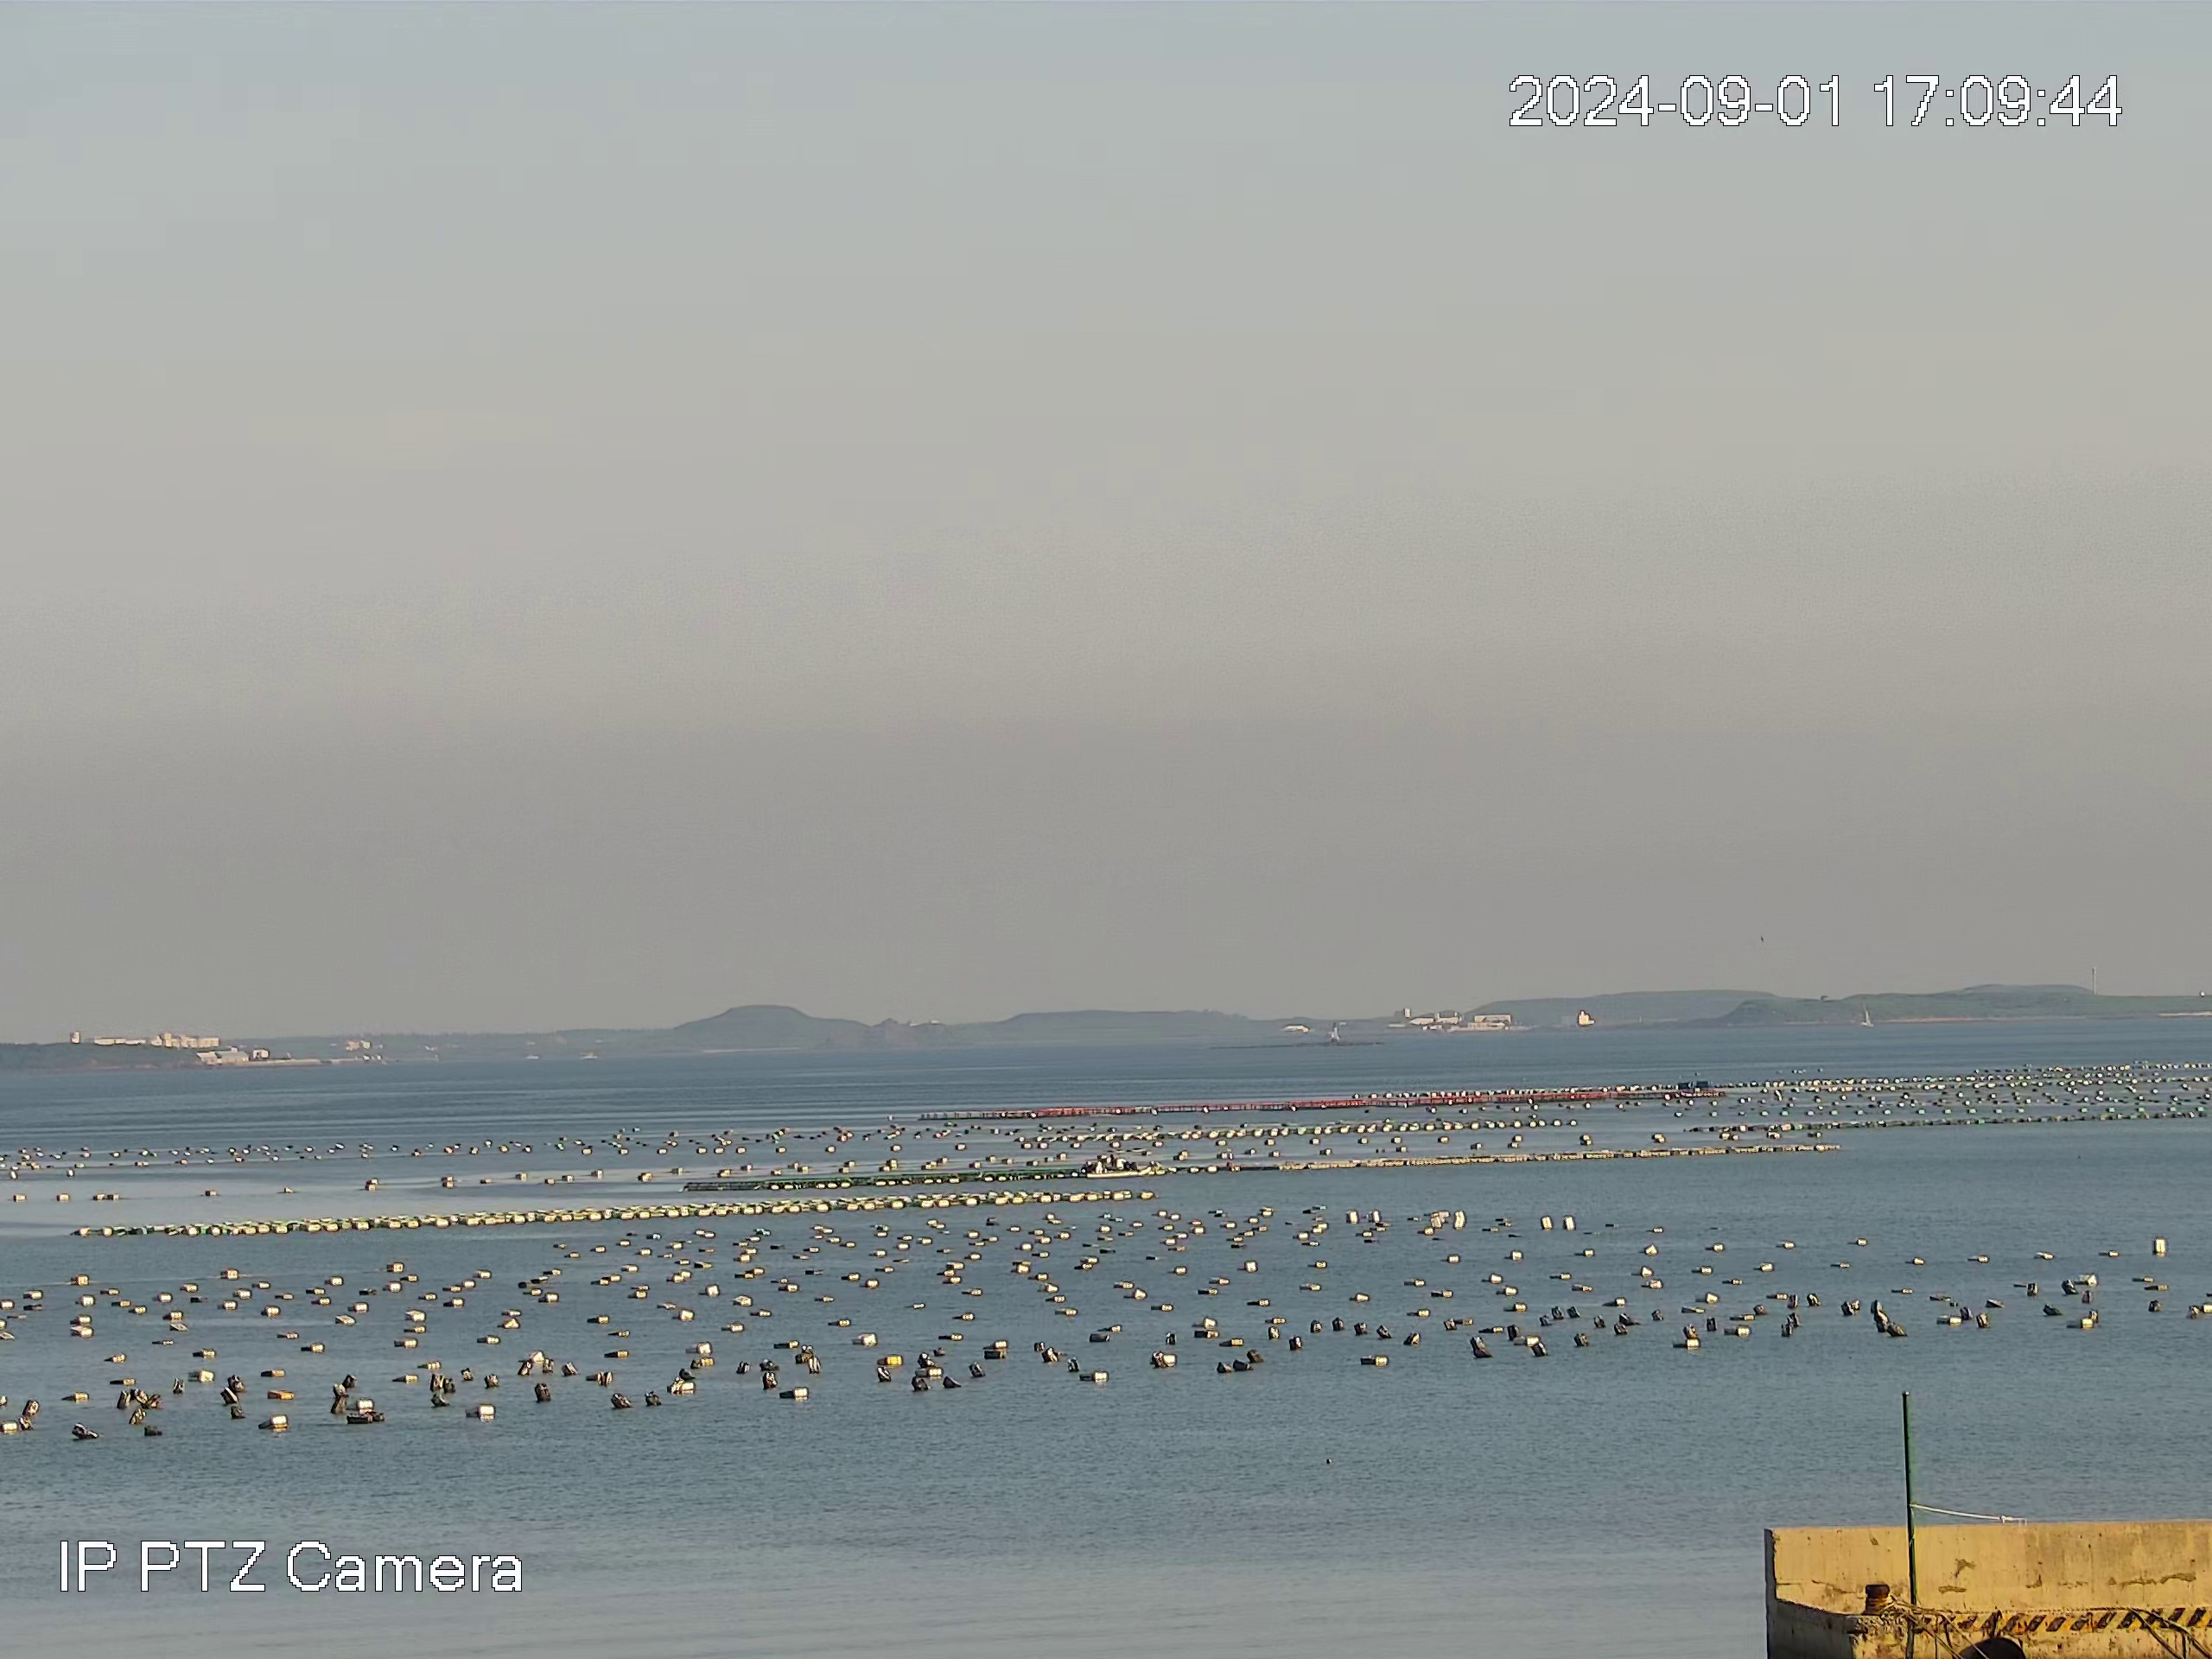boat: (1087, 1147, 1150, 1176)
